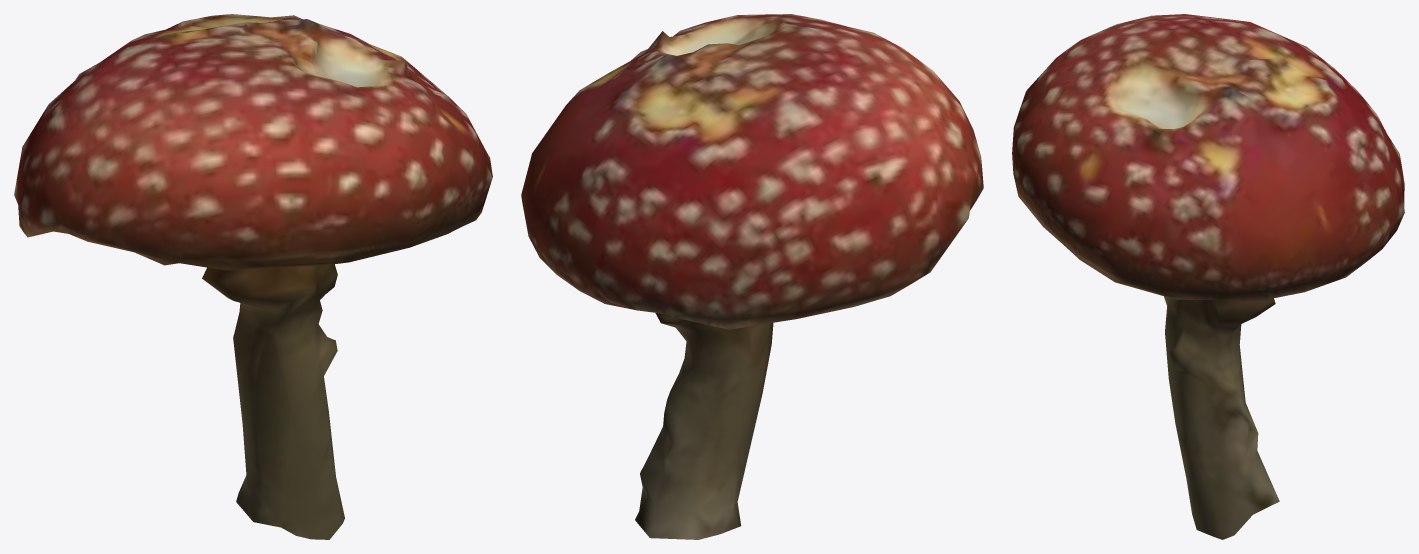
The model's file is SM_pal_b00_flower_Mushroom_Cluster_01_NordicConiferBiome_cacb25.glb.
3 renders of one model, left to right at view 1: azimuth 30°, elevation 25°; view 2: azimuth 150°, elevation 25°; view 3: azimuth 270°, elevation 25°, orthographic. The views are drawn at different scales.
Size of the model in its own units: 0.2912 by 0.3364 by 0.2679.
Materials: 1 (1 with a texture image).
